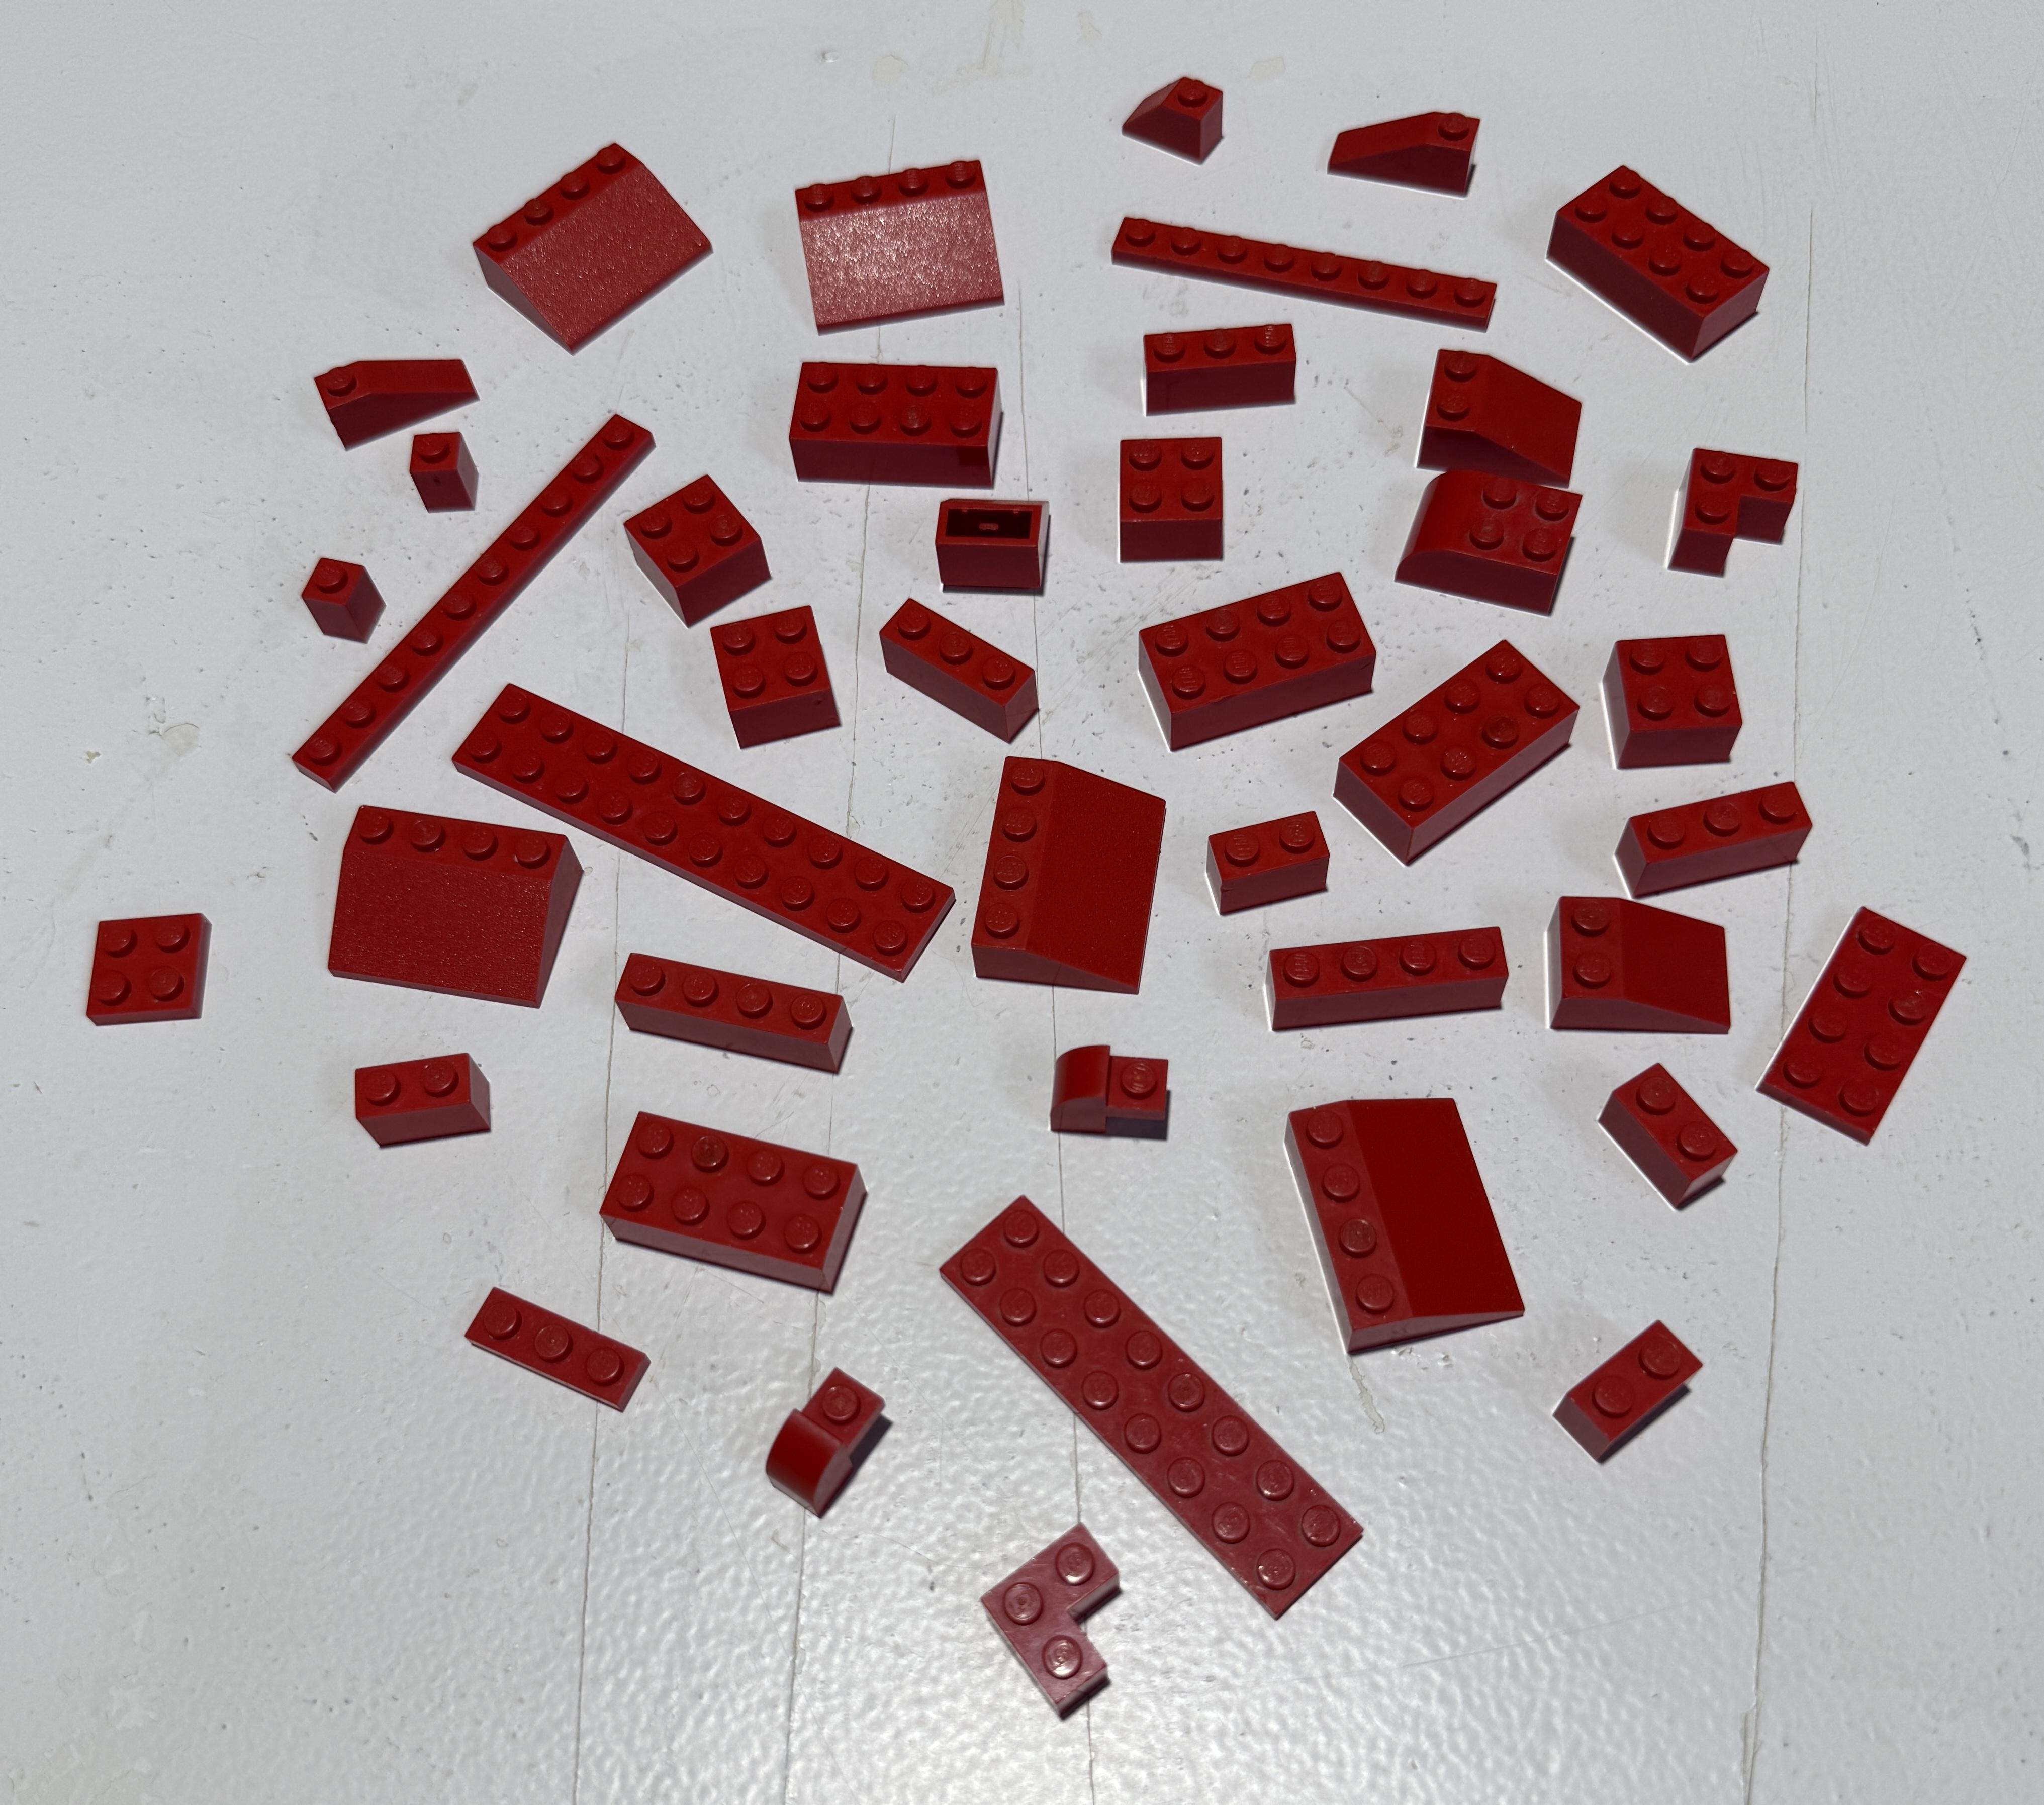Special_02: (1399, 333, 1614, 507), (1535, 883, 1751, 1051)
brick_1x1: (267, 537, 406, 664), (382, 411, 495, 519)
brick_1x2: (1535, 1277, 1729, 1486), (1575, 1033, 1751, 1249), (328, 1031, 512, 1167), (1171, 786, 1343, 930)
brick_1x3: (1598, 758, 1837, 929), (880, 587, 1051, 758), (1131, 300, 1310, 423)
brick_1x4: (591, 939, 878, 1082), (1256, 908, 1528, 1047)
brick_2x2: (1586, 601, 1762, 794), (603, 453, 782, 636), (692, 582, 861, 768)
brick_2x4: (573, 1094, 896, 1307), (1328, 627, 1598, 871), (1525, 157, 1783, 373), (1124, 559, 1382, 751), (768, 345, 1023, 497)
plate_2x2: (73, 894, 221, 1038)
special_08: (1277, 1072, 1551, 1375), (296, 789, 599, 1019), (950, 742, 1195, 1023), (470, 129, 727, 366), (782, 139, 1026, 348)
